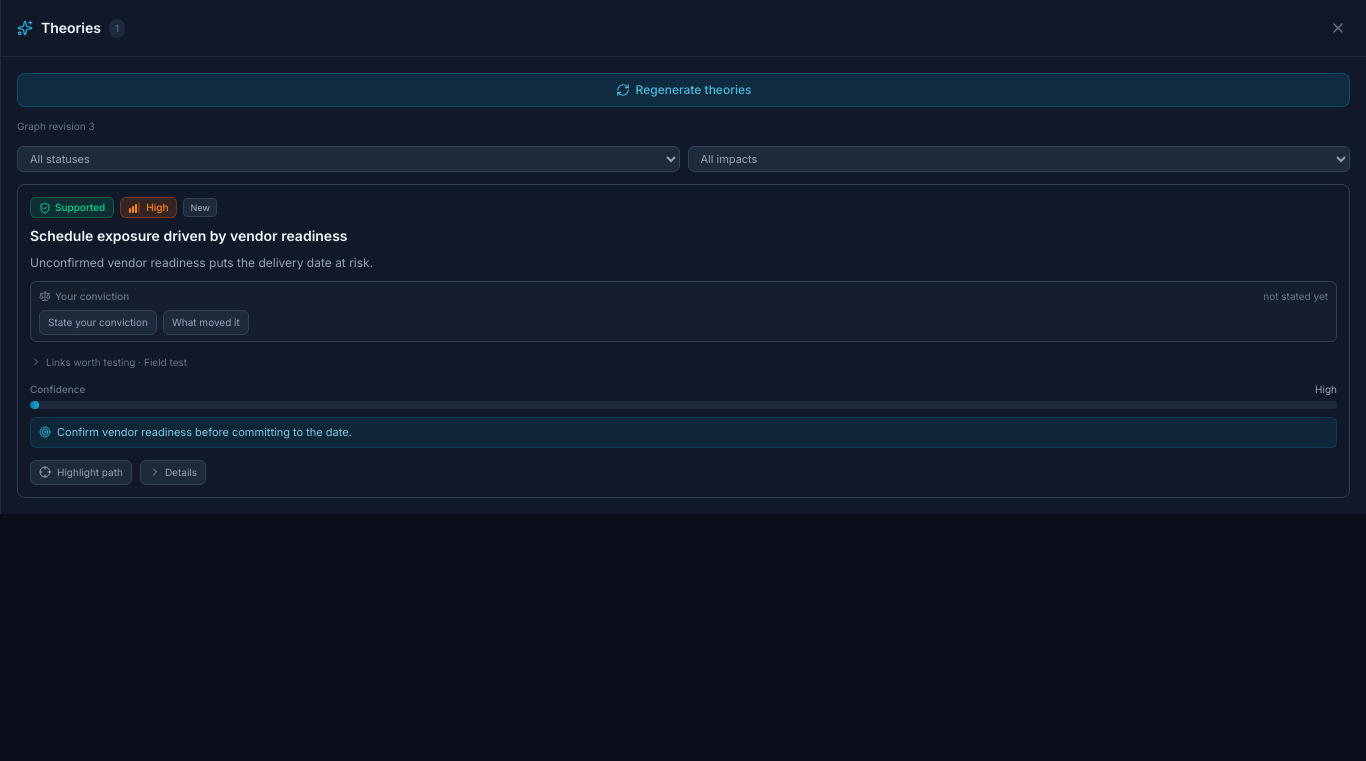
Test case: Theory panel: objections › shows a dismissed objection as struck through, not hidden
The width and height of the screenshot is (1366, 761).
Click the button "Details" at (173, 472), box x1=140 y1=460 x2=206 y2=485
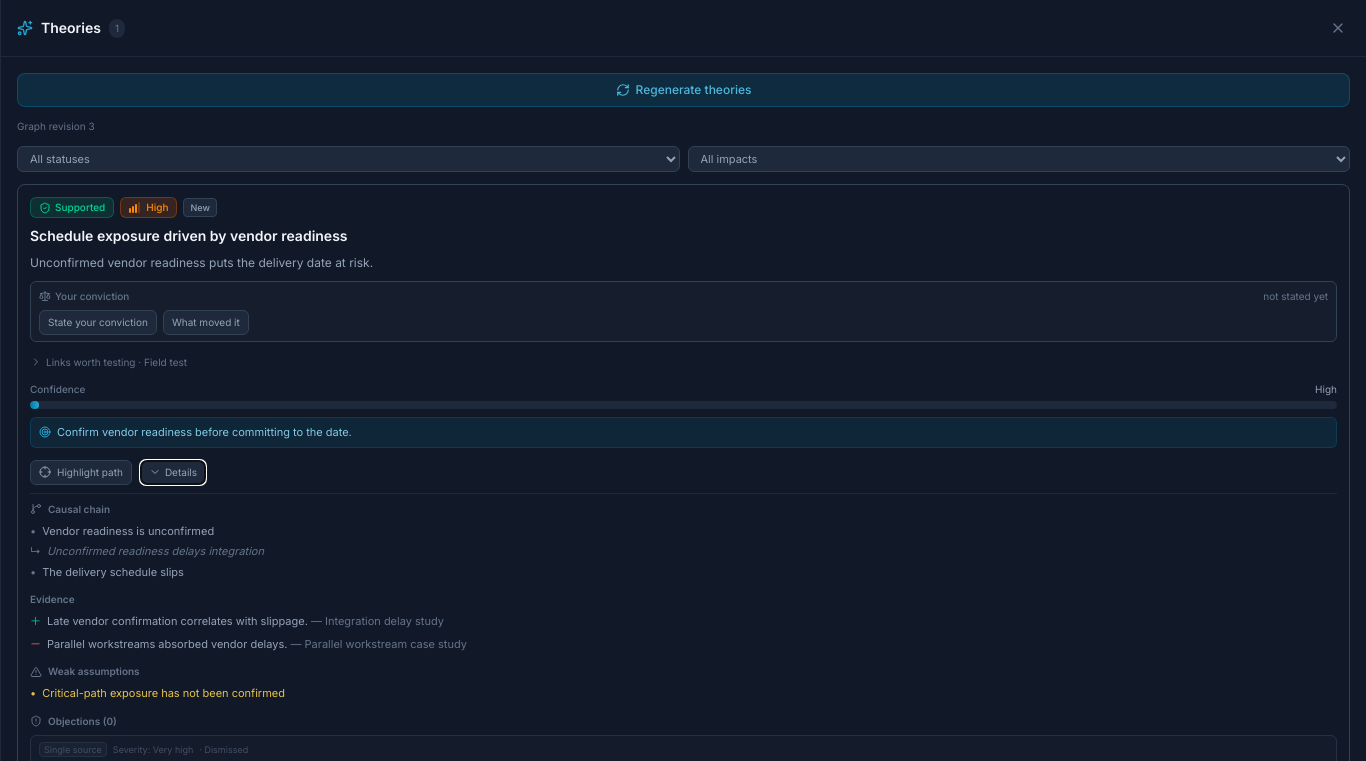
expect the text "· Dismissed" is shown: met, box x1=199 y1=743 x2=248 y2=756
